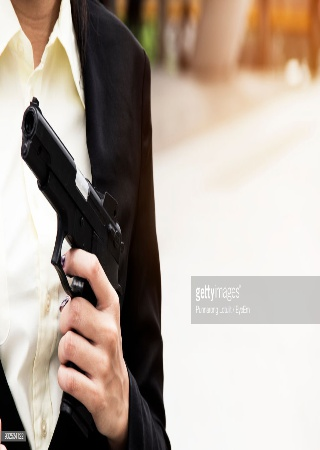handgun: (19, 94, 129, 322)
